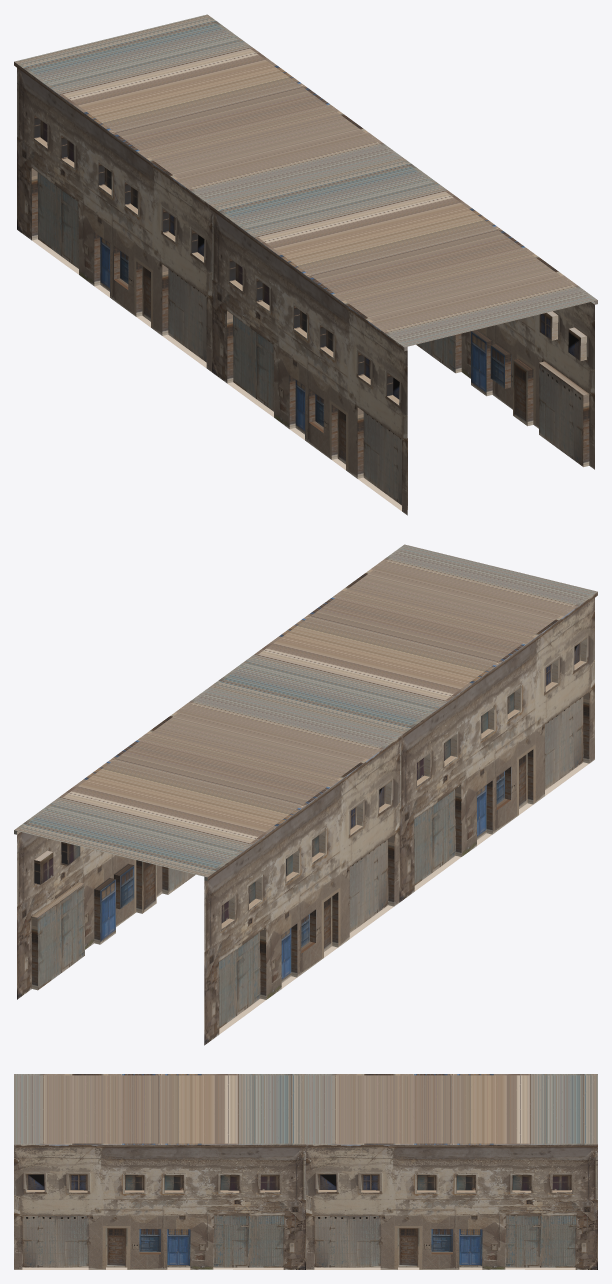
Rendered from BloqueEdifPeq2.fbx.
The picture shows the model from 3 angles, top to bottom: view 1: azimuth 30°, elevation 25°; view 2: azimuth 150°, elevation 25°; view 3: azimuth 270°, elevation 25°; orthographic projection. The views are drawn at different scales.
Parts seen in each view (by area): view 1: Plane.012; view 2: Plane.012; view 3: Plane.012.
Boxes of the visible parts, x1=… form: Plane.012: x1=14, y1=14, x2=597, y2=515; Plane.012: x1=14, y1=544, x2=597, y2=1045; Plane.012: x1=14, y1=1074, x2=597, y2=1269.
Bounding box in the file's own units: 33.1 × 27.61 × 116.
Materials: 2 (2 with a texture image).
